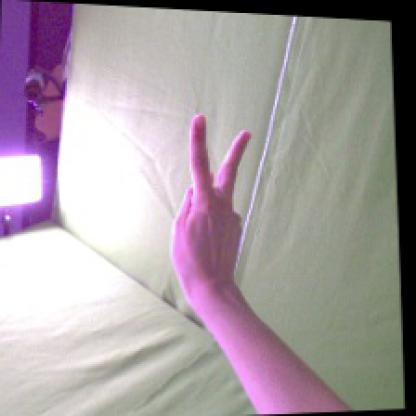Hand: (169, 114, 252, 302)
